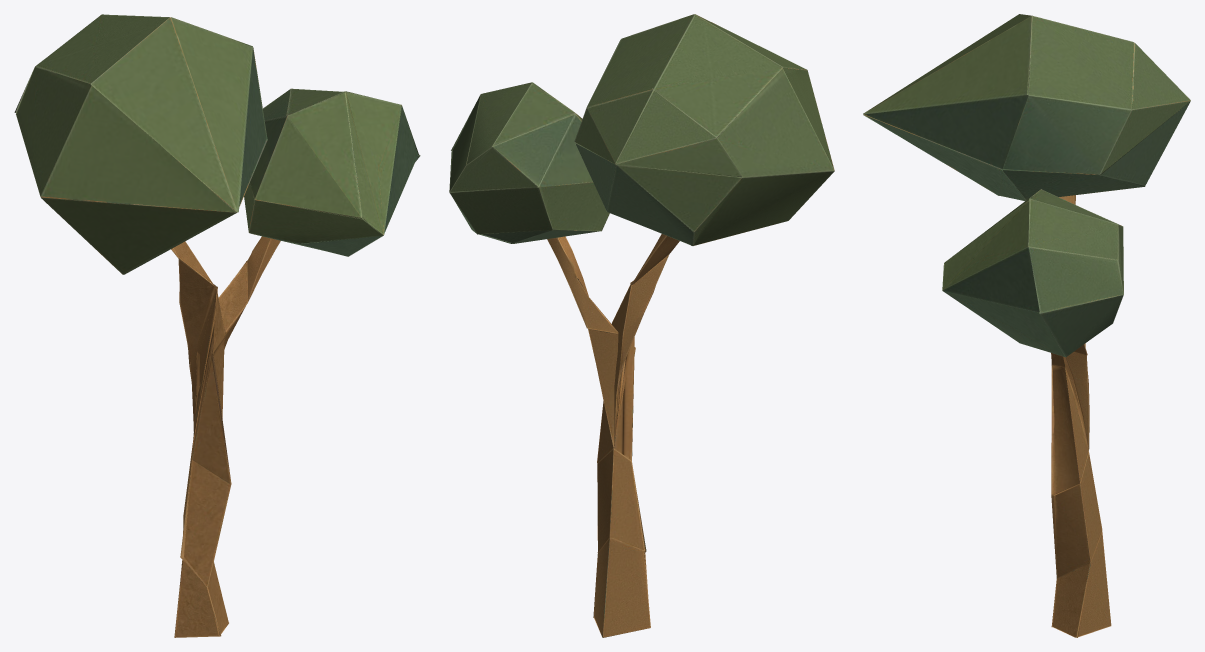
File: AW-VAR-TREE-001-v0.2.glb
The picture shows the model from 3 angles, left to right: view 1: azimuth 30°, elevation 25°; view 2: azimuth 150°, elevation 25°; view 3: azimuth 270°, elevation 25°; orthographic projection. The views are drawn at different scales.
Visible parts, largest first — view 1: AW-VAR-TREE-001_meter_ground_pivot; view 2: AW-VAR-TREE-001_meter_ground_pivot; view 3: AW-VAR-TREE-001_meter_ground_pivot.
Part boxes in pixels (x1,y1,x2,y2): AW-VAR-TREE-001_meter_ground_pivot: (14, 14, 420, 637); AW-VAR-TREE-001_meter_ground_pivot: (449, 14, 834, 637); AW-VAR-TREE-001_meter_ground_pivot: (863, 14, 1190, 637).
Size of the model in its own units: 1.41 by 2.2 by 1.12.
Materials: 1 (1 with a texture image).
